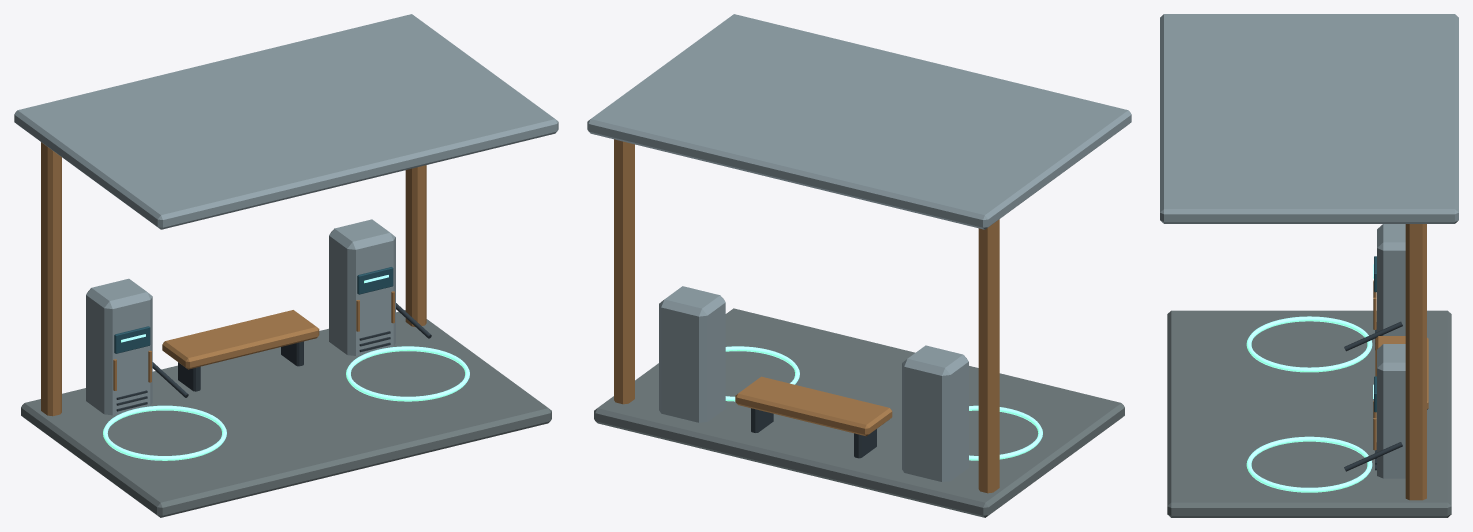
Rendered from meeting-charge.lod0.glb.
3 views of the same model, side by side, from view 1: azimuth 30°, elevation 25°; view 2: azimuth 150°, elevation 25°; view 3: azimuth 270°, elevation 25° (orthographic).
Visible parts, largest first — view 1: structure; view 2: structure; view 3: structure.
Part boxes in pixels (<box>): structure: <box>14,14,558,517</box>; structure: <box>587,14,1131,517</box>; structure: <box>1160,14,1458,517</box>.
Bounding box in the file's own units: 6.6 × 4.81 × 4.2.
